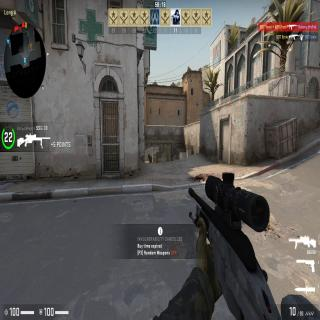T-Body: (150, 156, 152, 163), (149, 155, 150, 163), (148, 153, 149, 160)
T-Head: (151, 156, 151, 157), (150, 155, 150, 156), (148, 154, 150, 154)
